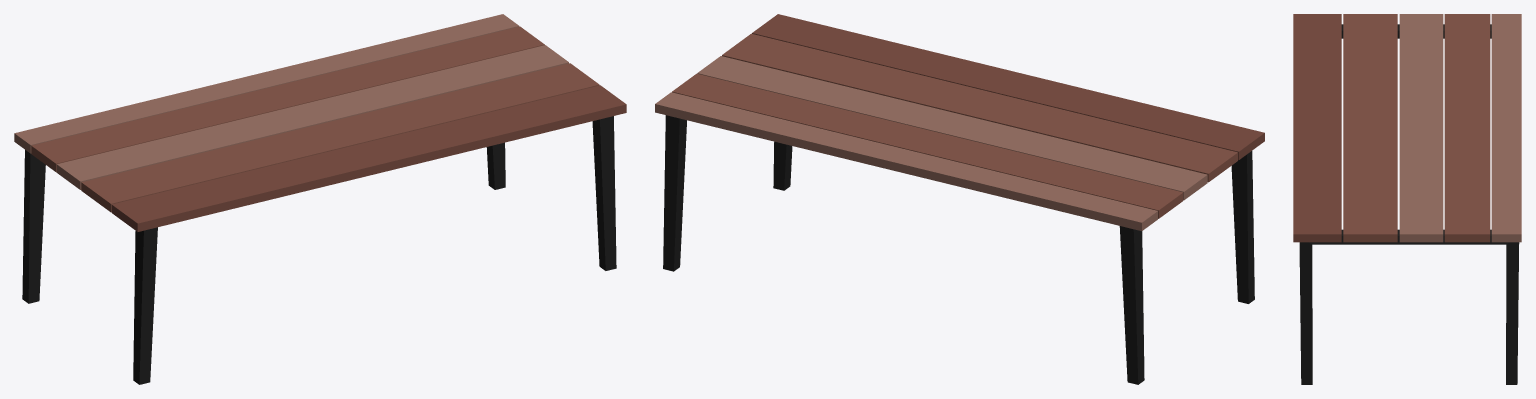
Rendered from kitchen_table_001.glb.
3 renders of one model, left to right at view 1: azimuth 30°, elevation 25°; view 2: azimuth 150°, elevation 25°; view 3: azimuth 270°, elevation 25°, orthographic. The views are drawn at different scales.
Parts seen in each view (by area): view 1: kitchen_table_001; view 2: kitchen_table_001; view 3: kitchen_table_001.
Boxes of the visible parts, x1,y1,x2,y2 form: kitchen_table_001: (14, 14, 626, 384); kitchen_table_001: (655, 14, 1264, 384); kitchen_table_001: (1293, 14, 1521, 384).
Size of the model in its own units: 2.15 by 0.6982 by 0.9417.
1 material, 1 textured.
